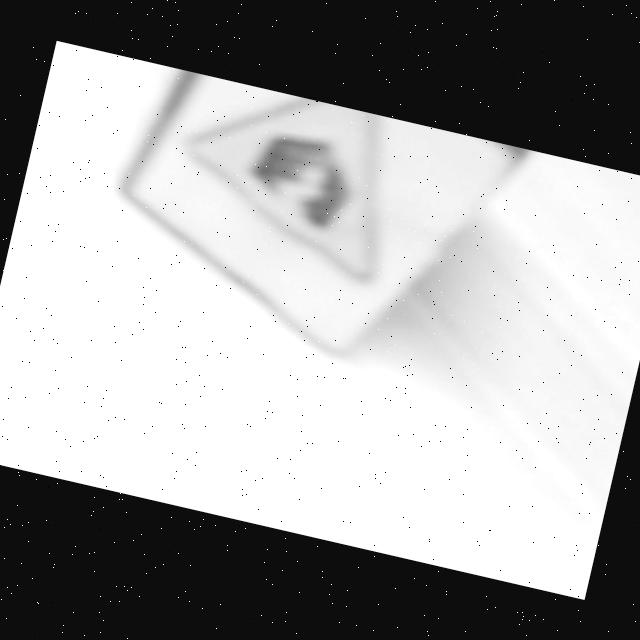Earthquake: (184, 98, 378, 277)
